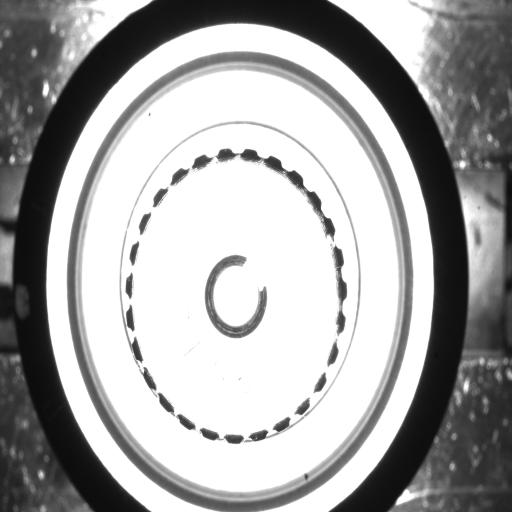gear: (122, 146, 351, 447)
